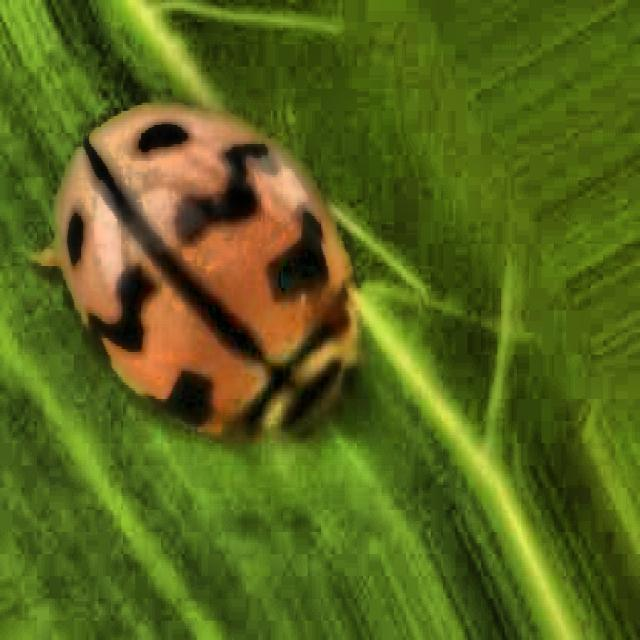Asian-Lady-beetle: (24, 40, 376, 485)
